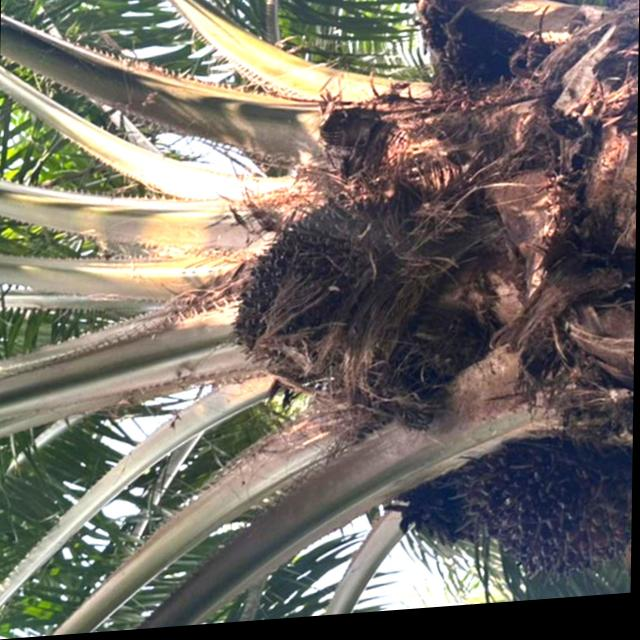unripe: (231, 183, 415, 398), (459, 429, 635, 594)
